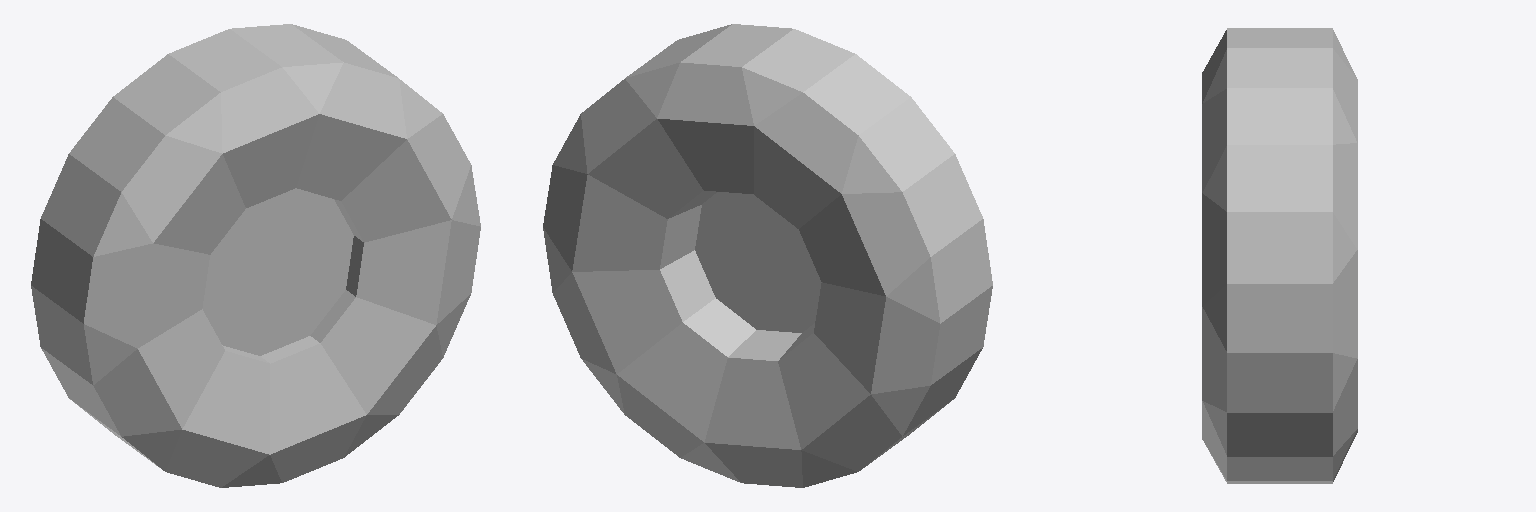
The model's file is buggywheel_rear.obj.
The picture shows the model from 3 angles: view 1: azimuth 30°, elevation 25°; view 2: azimuth 150°, elevation 25°; view 3: azimuth 270°, elevation 25°; orthographic projection.
Parts seen in each view (by area): view 1: buggy_reference.002; view 2: buggy_reference.002; view 3: buggy_reference.002.
Boxes of the visible parts, <box> form: buggy_reference.002: <box>31,24,480,487</box>; buggy_reference.002: <box>543,24,992,487</box>; buggy_reference.002: <box>1202,28,1357,483</box>.
Bounding box in the file's own units: 0.9909 × 0.9909 × 0.3347.